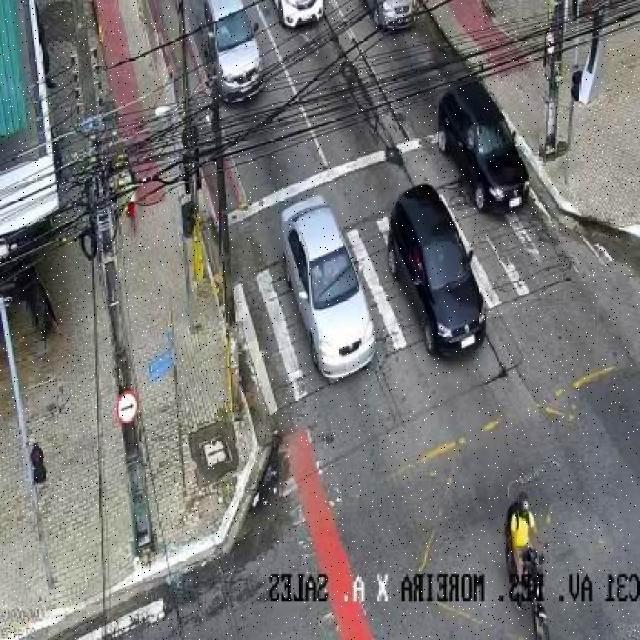Car: (279, 195, 377, 380), (388, 185, 490, 361), (436, 76, 532, 215), (197, 1, 266, 103), (269, 0, 328, 31), (362, 1, 417, 33)
Cycle: (504, 541, 552, 640)
